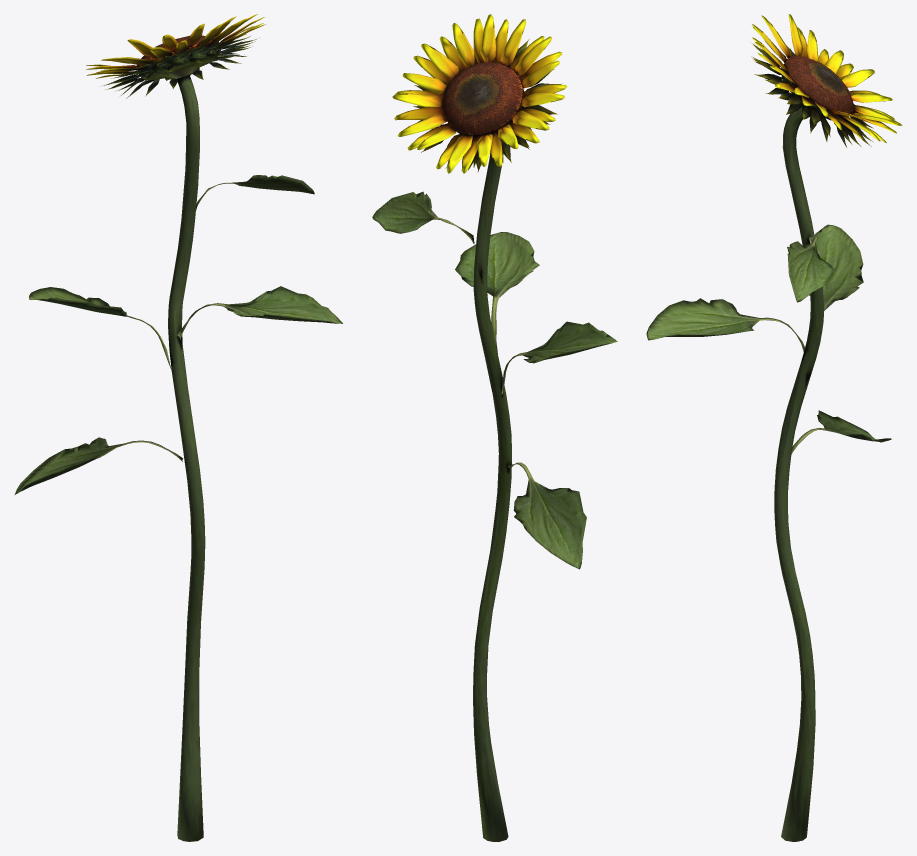
The model's file is Girasole11.fbx.
The picture shows the model from 3 angles, left to right: view 1: azimuth 30°, elevation 25°; view 2: azimuth 150°, elevation 25°; view 3: azimuth 270°, elevation 25°; orthographic projection. The views are drawn at different scales.
Visible parts, largest first — view 1: Girasole11; view 2: Girasole11; view 3: Girasole11.
Boxes of the visible parts, <box> form: Girasole11: <box>14,14,342,841</box>; Girasole11: <box>372,14,617,841</box>; Girasole11: <box>646,14,902,841</box>.
Bounding box in the file's own units: 29.44 × 86.71 × 24.9.
